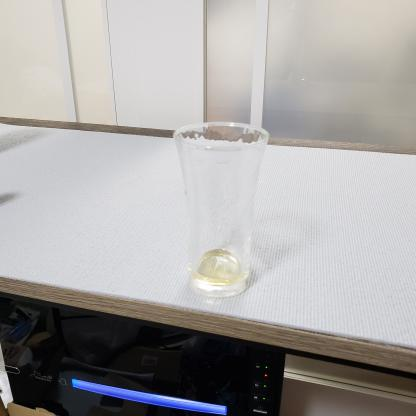glass: (166, 115, 280, 301)
